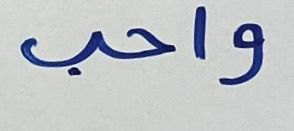beh: (16, 26, 105, 80)
hah: (110, 19, 178, 67)
teh: (188, 3, 216, 69)
waw: (219, 18, 268, 90)
